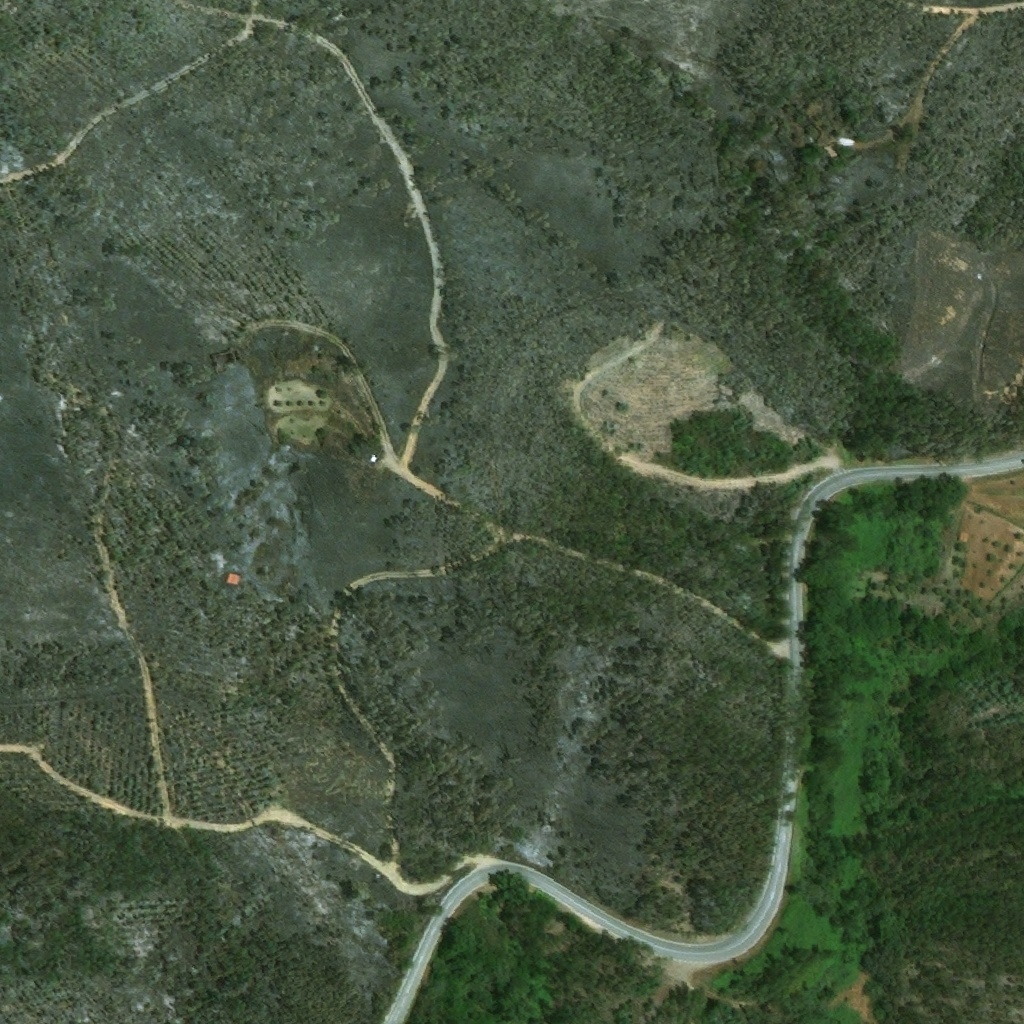0 no-damage: (226, 572, 240, 585), (369, 452, 378, 463)
